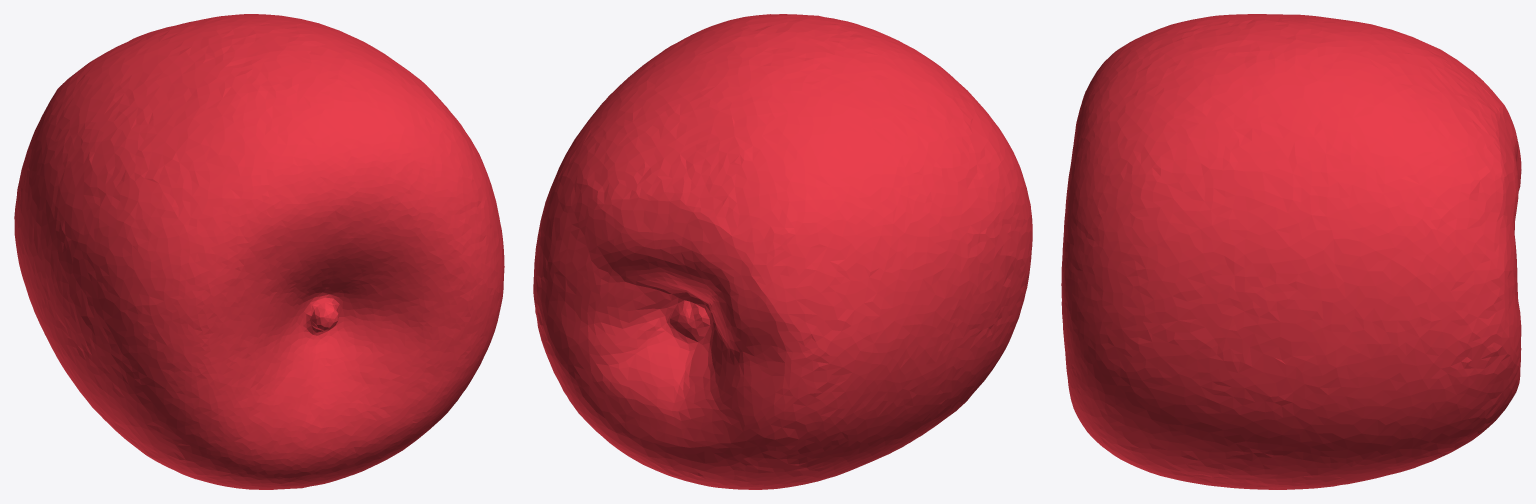
3 views of the same model, side by side, from view 1: azimuth 30°, elevation 25°; view 2: azimuth 150°, elevation 25°; view 3: azimuth 270°, elevation 25° (orthographic). The views are drawn at different scales.
Parts seen in each view (by area): view 1: textured; view 2: textured; view 3: textured.
Boxes of the visible parts, <box> form: textured: <box>14,14,504,489</box>; textured: <box>533,14,1032,489</box>; textured: <box>1061,14,1521,489</box>.
Size of the model in its own units: 0.0754 by 0.0749 by 0.0719.
